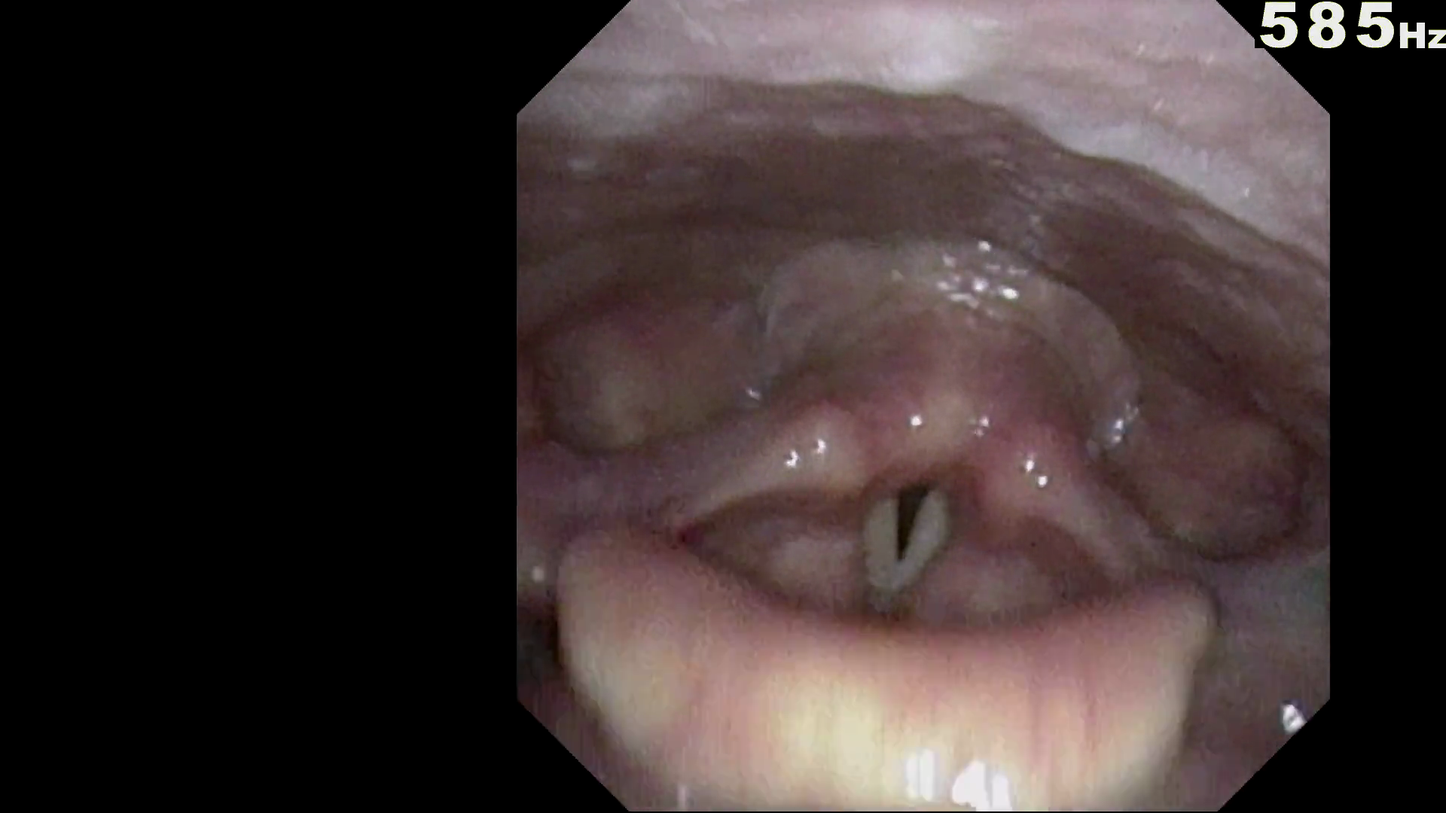epiglottis: (603, 522, 1230, 785)
trachea: (862, 466, 965, 596)
